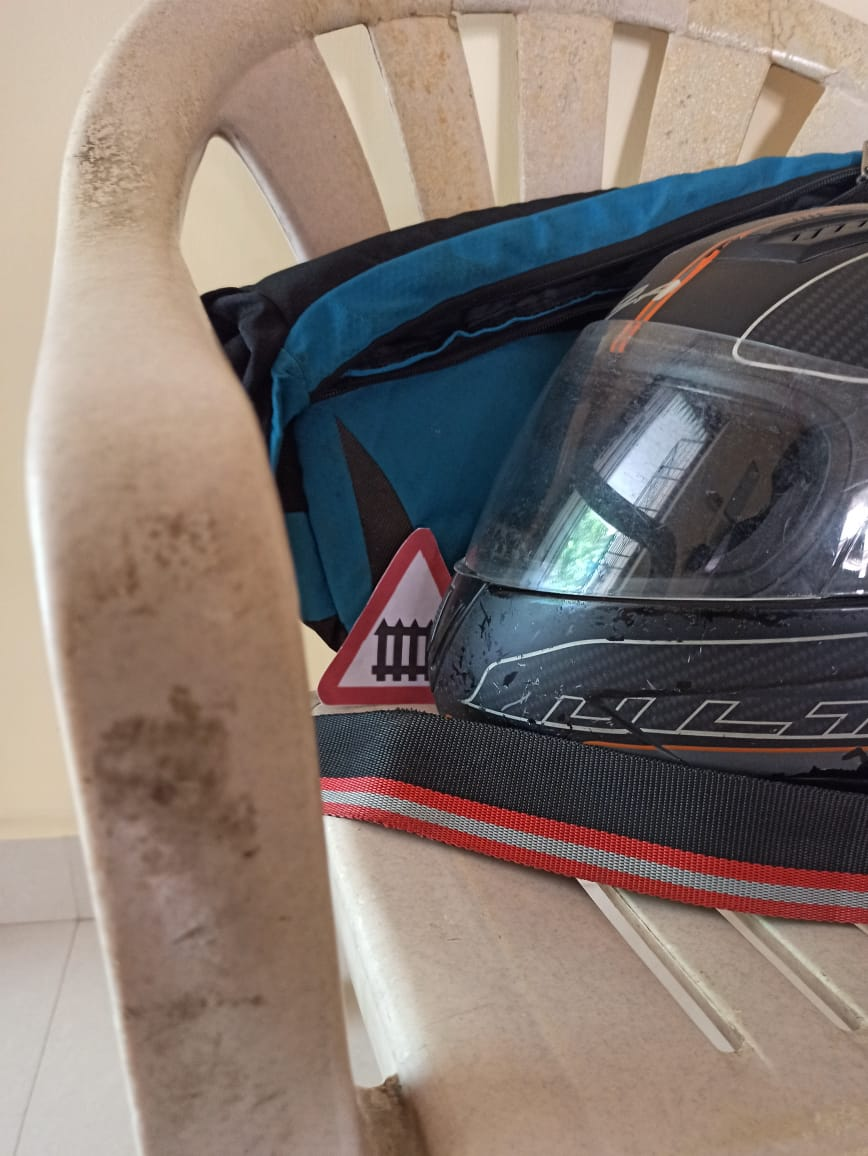GUARDED LEVEL CROSSING: (312, 504, 539, 733)
